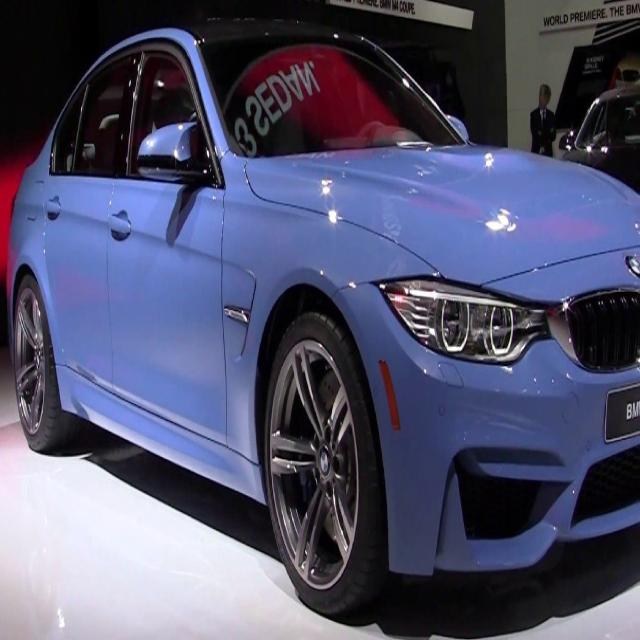blue: (12, 16, 640, 639)
